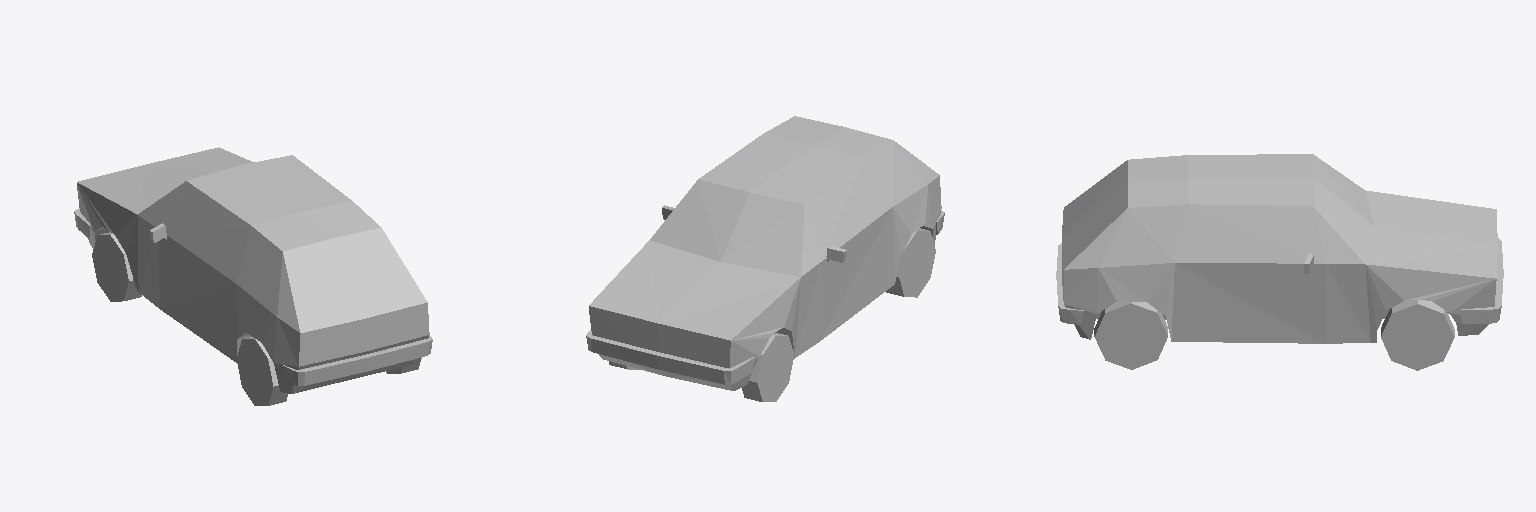
The model's file is Car3_o3.obj.
3 views of the same model, side by side, from view 1: azimuth 30°, elevation 25°; view 2: azimuth 150°, elevation 25°; view 3: azimuth 270°, elevation 25° (orthographic).
Visible parts, largest first — view 1: Car3; view 2: Car3; view 3: Car3.
Part boxes in pixels (x1,y1,x2,y2): Car3: (74, 147, 432, 405); Car3: (586, 116, 944, 401); Car3: (1056, 154, 1503, 370).
Bounding box in the file's own units: 1.59 × 1.29 × 3.37.